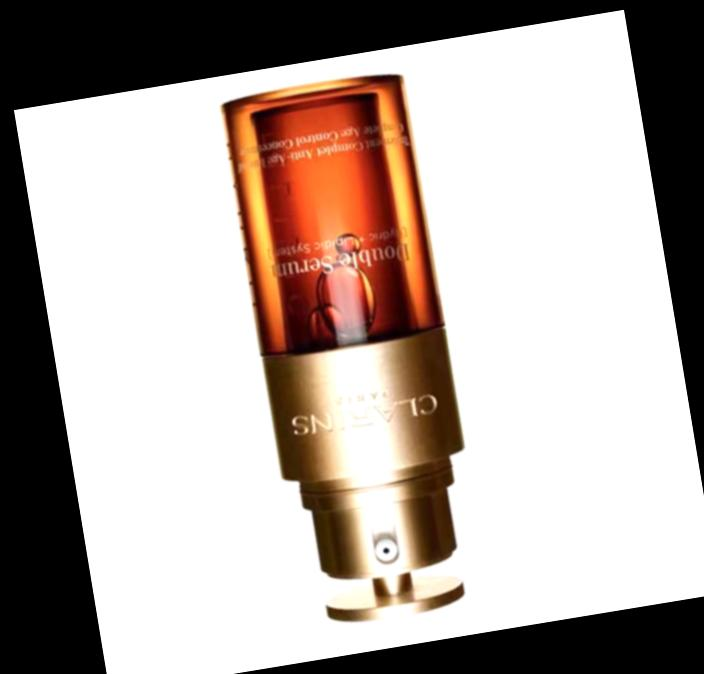cosmetic: (217, 73, 498, 639)
